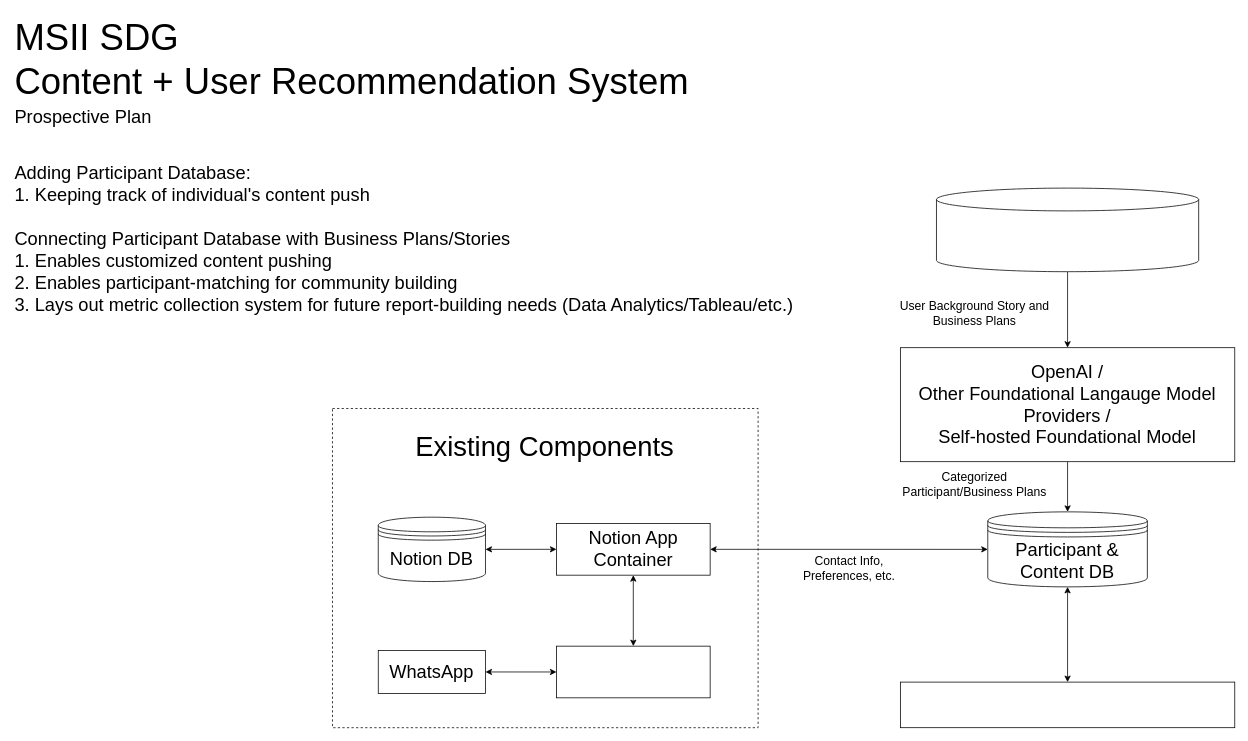
This 1248x741 diagram has some shape labels left out. The centre of each missing label's shape, as x and y in pixels:
Google Drive (Plans and Assessments): [1067,229]
Participant Matching / Other Business Logics: [1067,704]
WhatsApp Container: [633,671]
